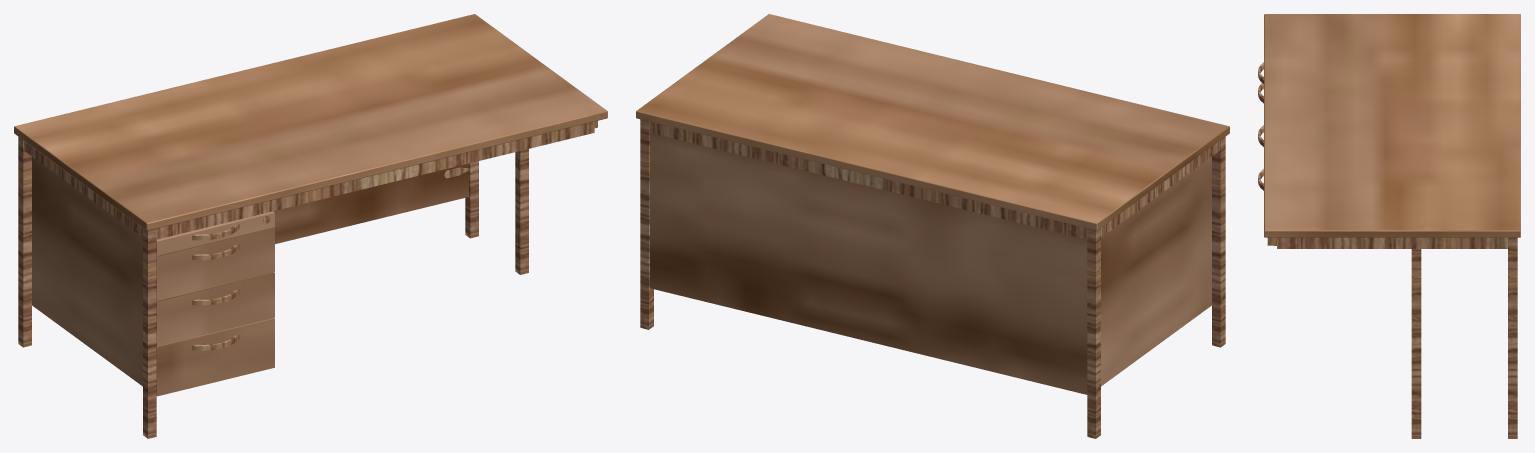
Rendered from table_160x80_legroom_cupboard_left_leg_right_intended_finala.fbx.
The picture shows the model from 3 angles, left to right: view 1: azimuth 30°, elevation 25°; view 2: azimuth 150°, elevation 25°; view 3: azimuth 270°, elevation 25°; orthographic projection. The views are drawn at different scales.
Visible parts, largest first — view 1: blat_mesh, obudowa_mesh, metal_mesh, drewno_mesh (×2), drewno_mesh2, drewno_mesh1, drewno_mesh3; view 2: drewno_mesh, blat_mesh, obudowa_mesh, metal_mesh; view 3: blat_mesh, metal_mesh.
Boxes of the visible parts, x1,y1,x2,y2 form: blat_mesh: (14,14,607,230); obudowa_mesh: (32,157,142,386); metal_mesh: (18,115,603,435); drewno_mesh (×2): (156,163,468,396); drewno_mesh2: (156,227,274,300); drewno_mesh1: (156,272,274,346); drewno_mesh3: (156,211,274,255); drewno_mesh: (650,133,1087,394); blat_mesh: (636,14,1229,230); obudowa_mesh: (1101,157,1211,386); metal_mesh: (640,119,1225,435); blat_mesh: (1264,14,1520,237); metal_mesh: (1268,237,1517,435).
Size of the model in its own units: 160 by 72 by 81.9.
